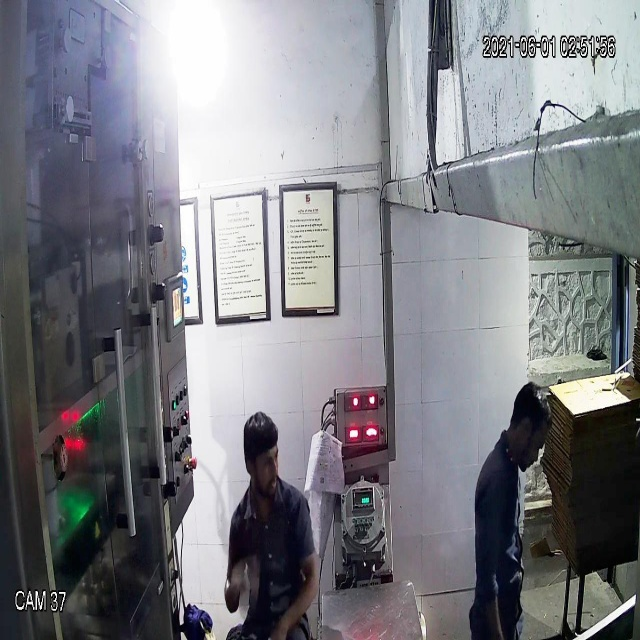Sin_gafas: (242, 441, 284, 478)
